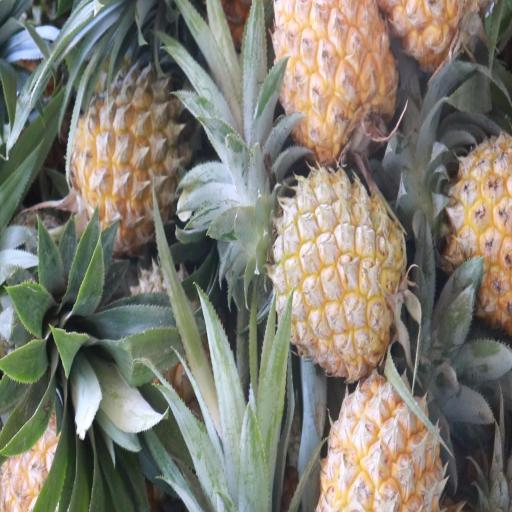------------------------------: (68, 75, 191, 247)
Pineapple - v8 v1: (274, 166, 406, 373), (319, 361, 445, 512), (274, 3, 397, 157)
